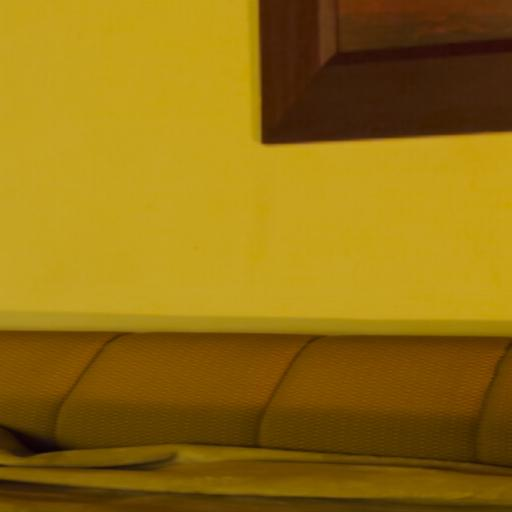nothing: (10, 0, 512, 512)
